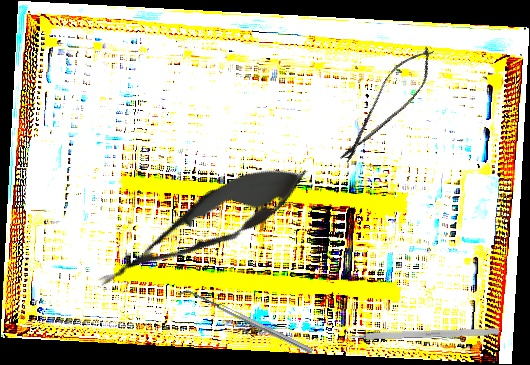Hook Surgical: (333, 328, 500, 341)
Micro Scissor: (85, 145, 319, 309), (329, 36, 446, 174)
Spatula Surgical: (177, 285, 314, 359)
